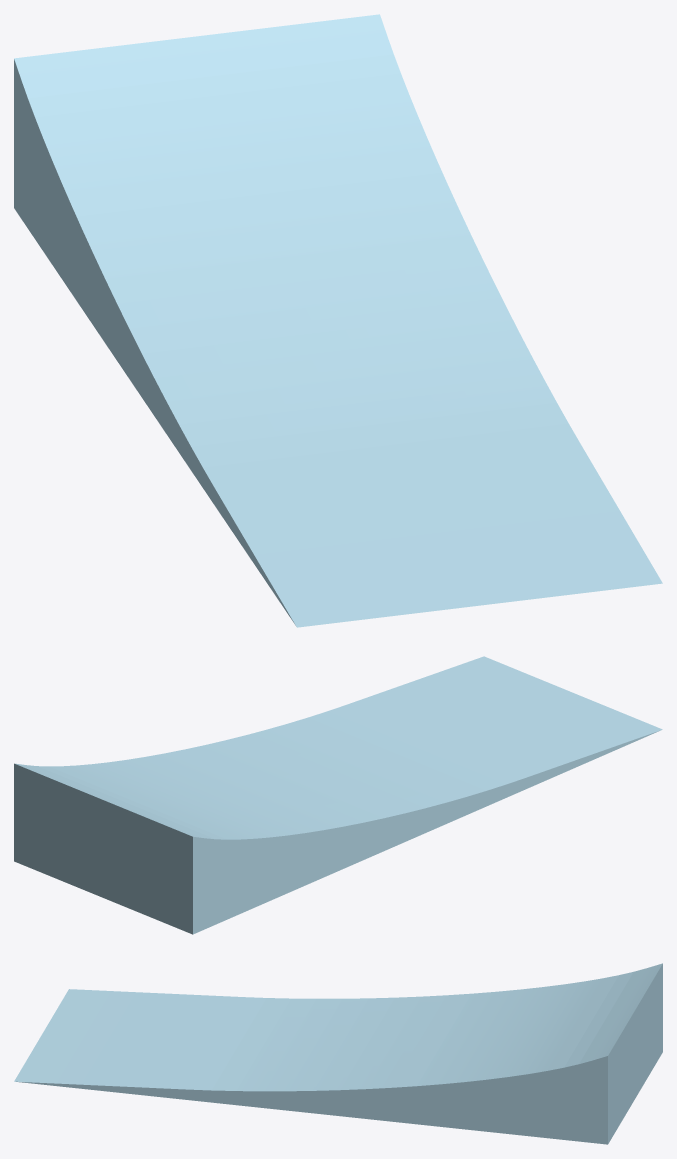
Rendered from ramp (4).fbx.
3 renders of one model, top to bottom at view 1: azimuth 30°, elevation 25°; view 2: azimuth 150°, elevation 25°; view 3: azimuth 270°, elevation 25°, orthographic. The views are drawn at different scales.
Parts seen in each view (by area): view 1: ramp__4_; view 2: ramp__4_; view 3: ramp__4_.
Boxes of the visible parts, box(x1,y1,x2,y2) form: ramp__4_: box(14, 14, 662, 627); ramp__4_: box(14, 656, 662, 934); ramp__4_: box(14, 963, 662, 1144).
Bounding box in the file's own units: 1014 × 270 × 1789.
